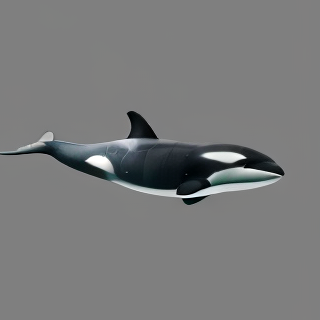Orca whale: (1, 109, 286, 207)
